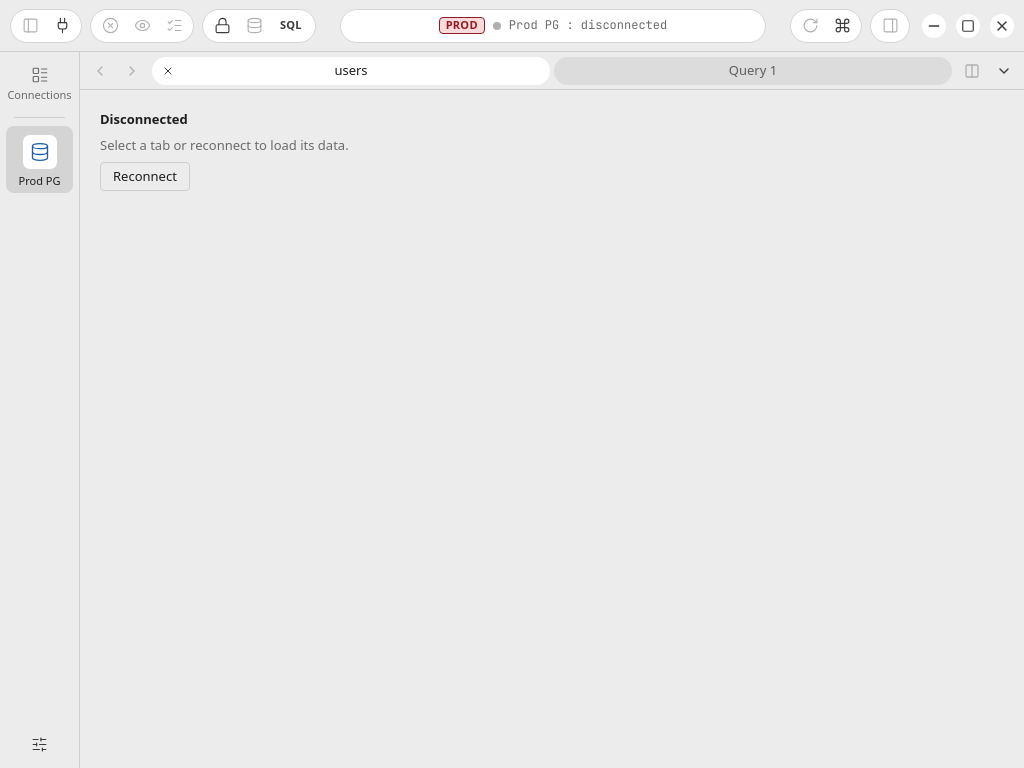
Test: a connect error is shown in the disconnected workspace
This screenshot has width=1024, height=768.
Expected: the tab "users" is shown, [152,56,550,84]
Click the button "Reconnect".
click(145, 176)  # box [100,162,190,191]
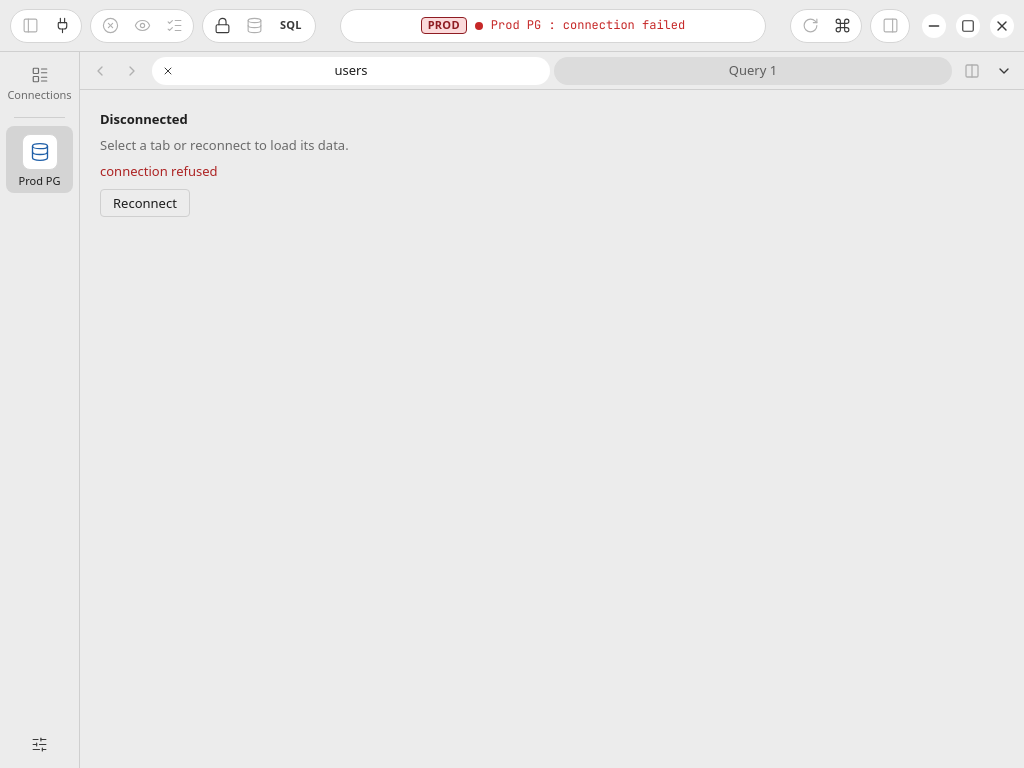
Expected: the button "Reconnect" is shown, [100,189,190,217]
Result: the text "connection refused" is shown at [100,162,218,181]
